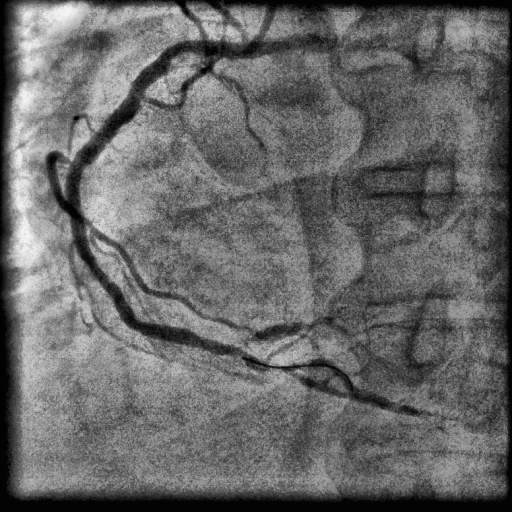rca: (65, 39, 251, 357)
